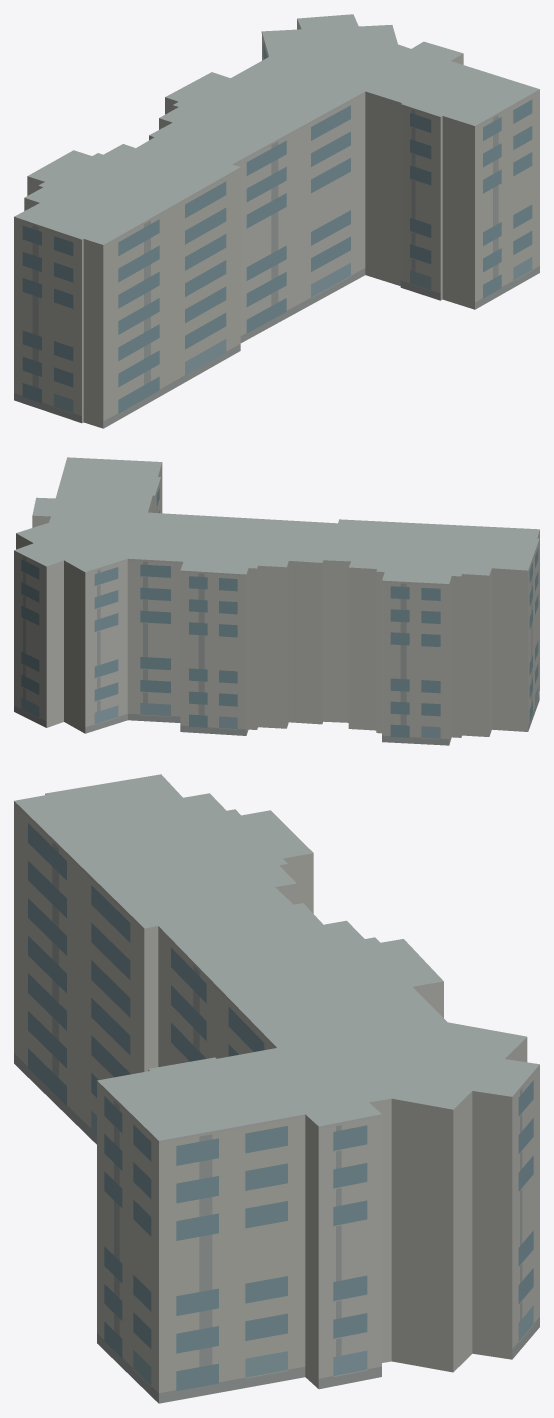
The model's file is residential-889acc7e-cbac-4e4c-94b5-8133033d0388.glb.
3 views of the same model, one above another, from view 1: azimuth 30°, elevation 25°; view 2: azimuth 150°, elevation 25°; view 3: azimuth 270°, elevation 25° (orthographic). The views are drawn at different scales.
Visible parts, largest first — view 1: residential-889acc7e-cbac-4e4c-94b5-8133033d0388.tmp; view 2: residential-889acc7e-cbac-4e4c-94b5-8133033d0388.tmp; view 3: residential-889acc7e-cbac-4e4c-94b5-8133033d0388.tmp.
Boxes of the visible parts, bbox=[...] form: residential-889acc7e-cbac-4e4c-94b5-8133033d0388.tmp: bbox=[14, 14, 539, 428]; residential-889acc7e-cbac-4e4c-94b5-8133033d0388.tmp: bbox=[14, 457, 539, 745]; residential-889acc7e-cbac-4e4c-94b5-8133033d0388.tmp: bbox=[14, 774, 539, 1403].
Bounding box in the file's own units: 62.84 × 21 × 38.09.
